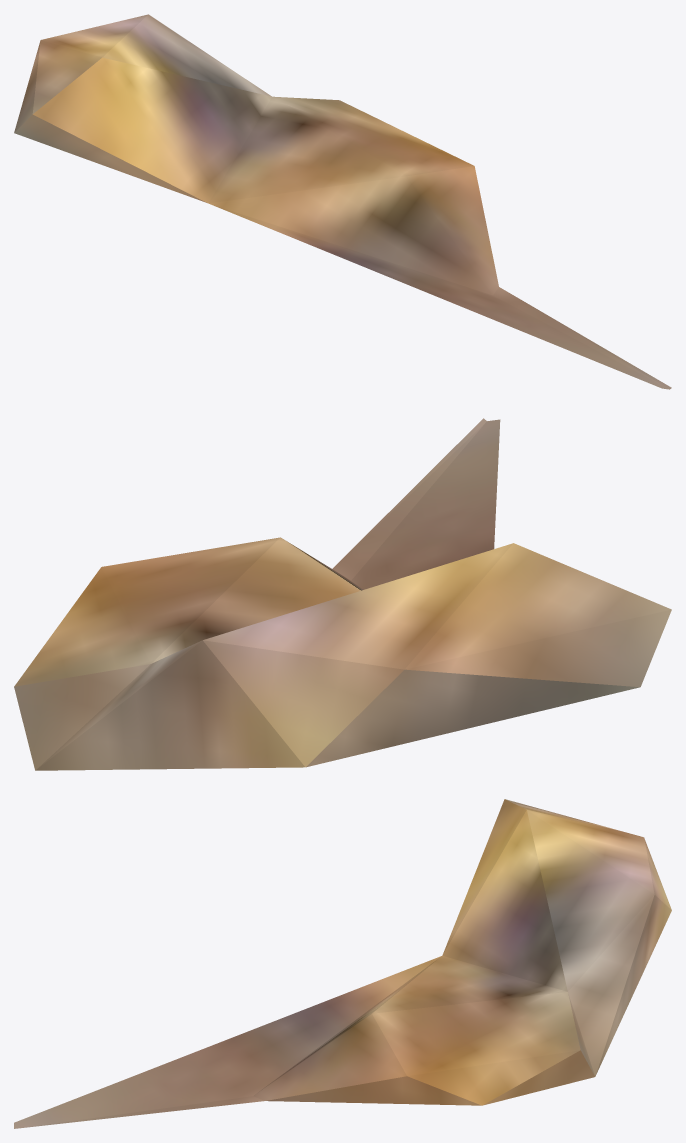
Rendered from Tile__003__007_L21_0005120.glb.
The picture shows the model from 3 angles, top to bottom: view 1: azimuth 30°, elevation 25°; view 2: azimuth 150°, elevation 25°; view 3: azimuth 270°, elevation 25°; orthographic projection. The views are drawn at different scales.
Parts seen in each view (by area): view 1: root; view 2: root; view 3: root.
Part boxes in pixels (x1,y1,x2,y2): root: (14, 14, 671, 389); root: (14, 418, 671, 770); root: (14, 799, 671, 1128).
Bounding box in the file's own units: 1.01 × 0.4985 × 1.59.
1 material, 1 textured.
